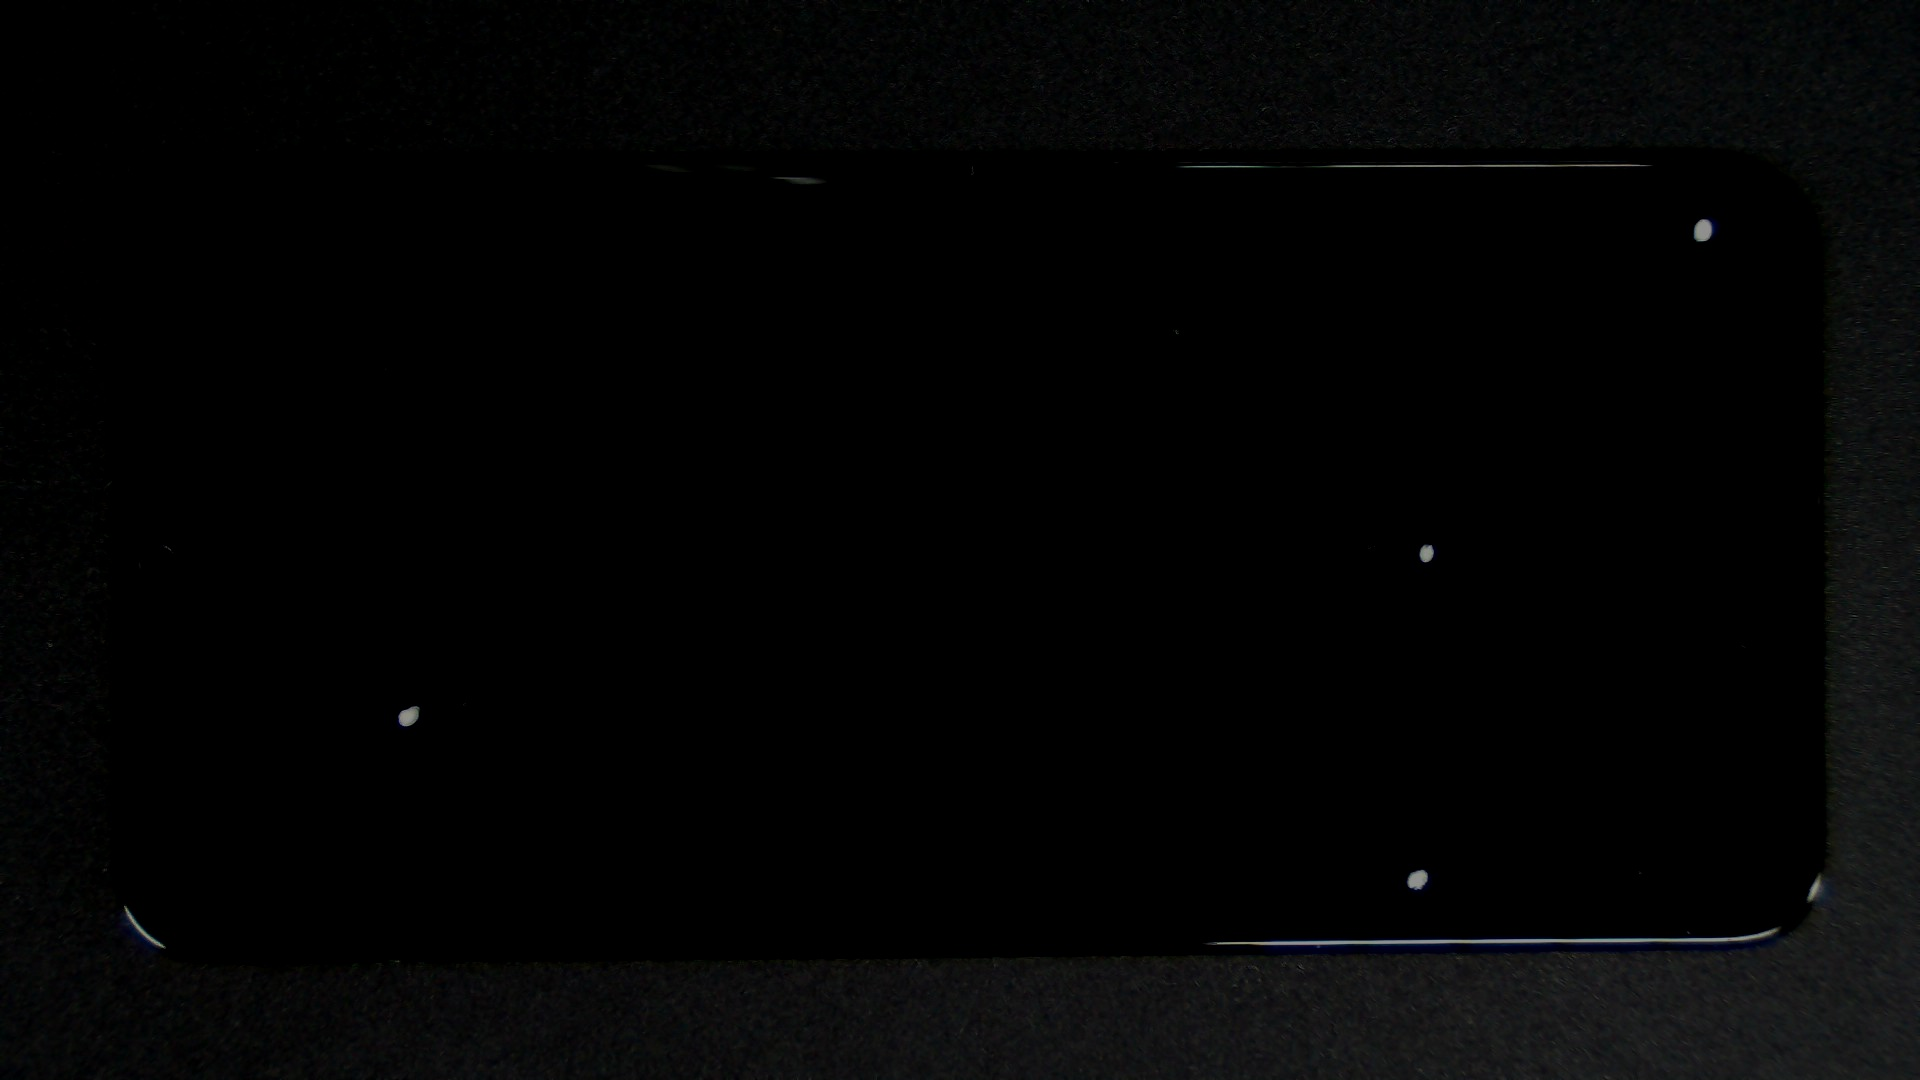oil: (708, 434, 1920, 1080), (711, 272, 1920, 815), (206, 352, 616, 1058), (852, 108, 1920, 326)
